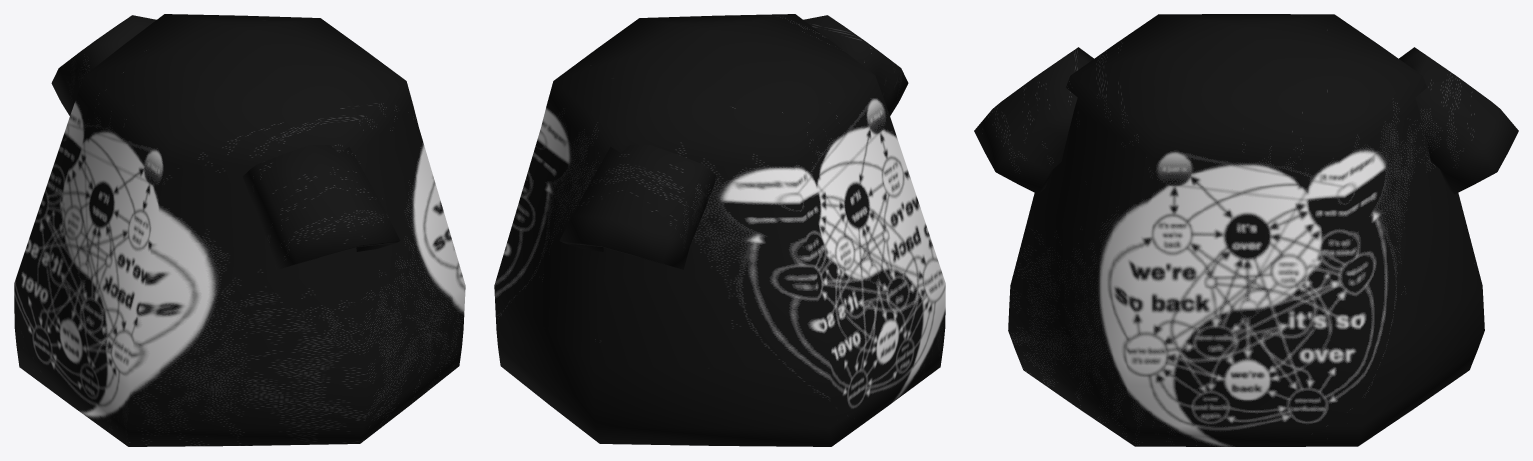
Rendered from Its_Over.glb.
The picture shows the model from 3 angles, left to right: view 1: azimuth 30°, elevation 25°; view 2: azimuth 150°, elevation 25°; view 3: azimuth 270°, elevation 25°; orthographic projection. The views are drawn at different scales.
Visible parts, largest first — view 1: Its Over; view 2: Its Over; view 3: Its Over.
Boxes of the visible parts, x1,y1,x2,y2 form: Its Over: (14, 14, 465, 446); Its Over: (494, 14, 945, 446); Its Over: (974, 14, 1518, 446).
Size of the model in its own units: 1.48 by 1.5 by 2.03.
Materials: 1 (1 with a texture image).
